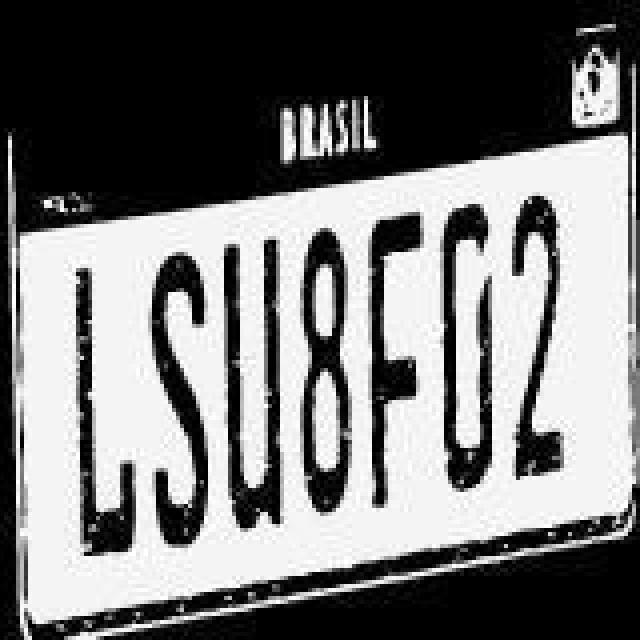2: (512, 190, 568, 474)
8: (300, 222, 356, 514)
D: (438, 202, 498, 494)
F: (366, 208, 426, 512)
L: (62, 264, 138, 568)
S: (148, 246, 212, 546)
U: (218, 216, 294, 536)
